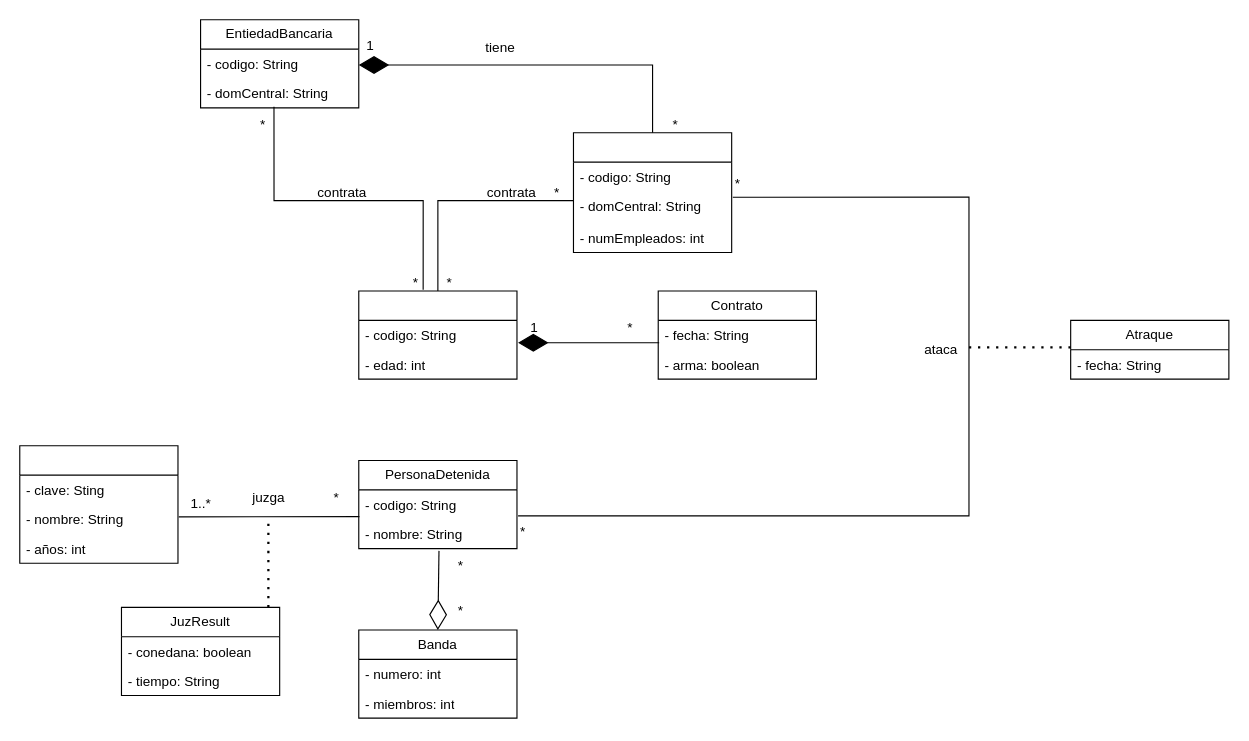
This 1249x741 diagram has some shape labels left out. Each missing label, with the box of its shape:
Juez: (19, 445, 178, 563)
Sucursal: (572, 132, 732, 253)
VigJurado: (358, 290, 517, 379)
